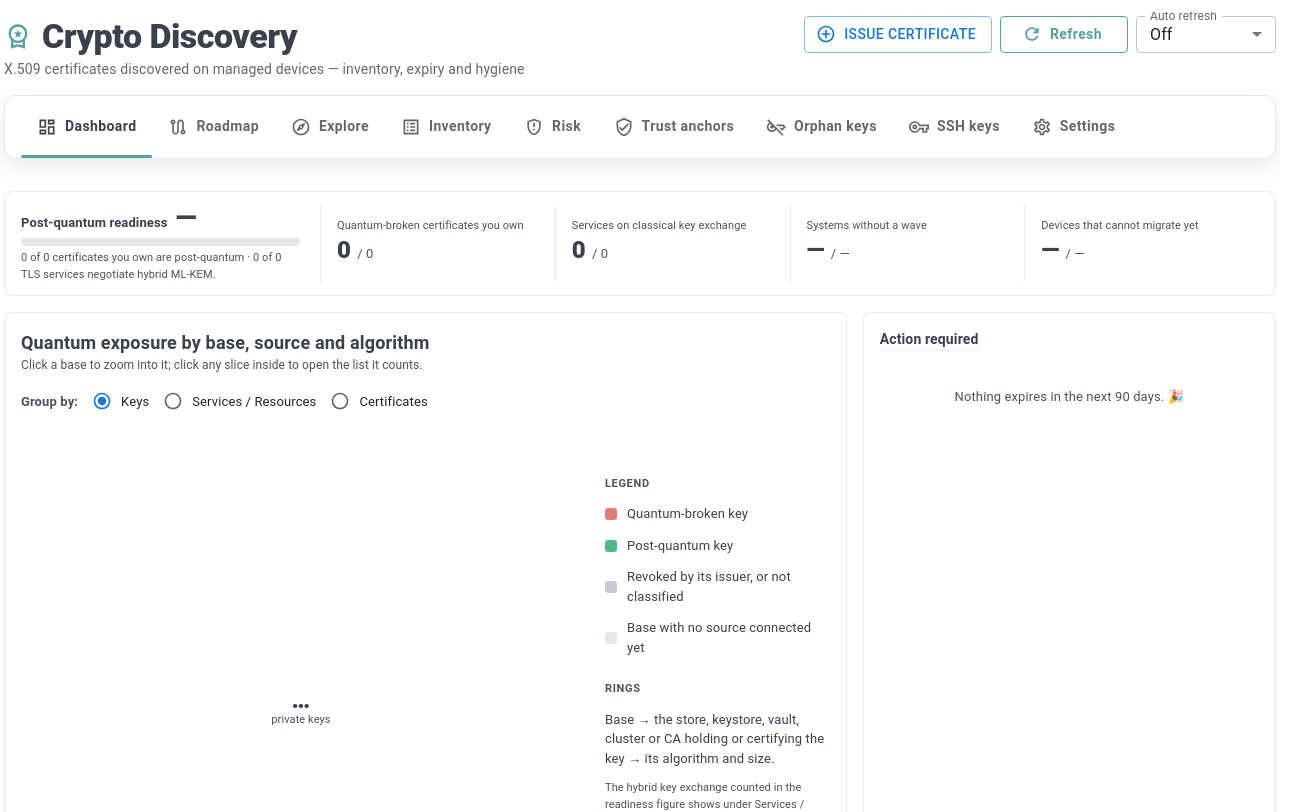
KPI clicables › ⭐ «you own» abre TODO lo que tiene clave —CA incluidas, como lo cuenta— y la lista lo pide
Expected: the text "With private key" is not shown
Click the button "Quantum-broken certificates you own" at point(438, 244), box [321, 204, 556, 283]
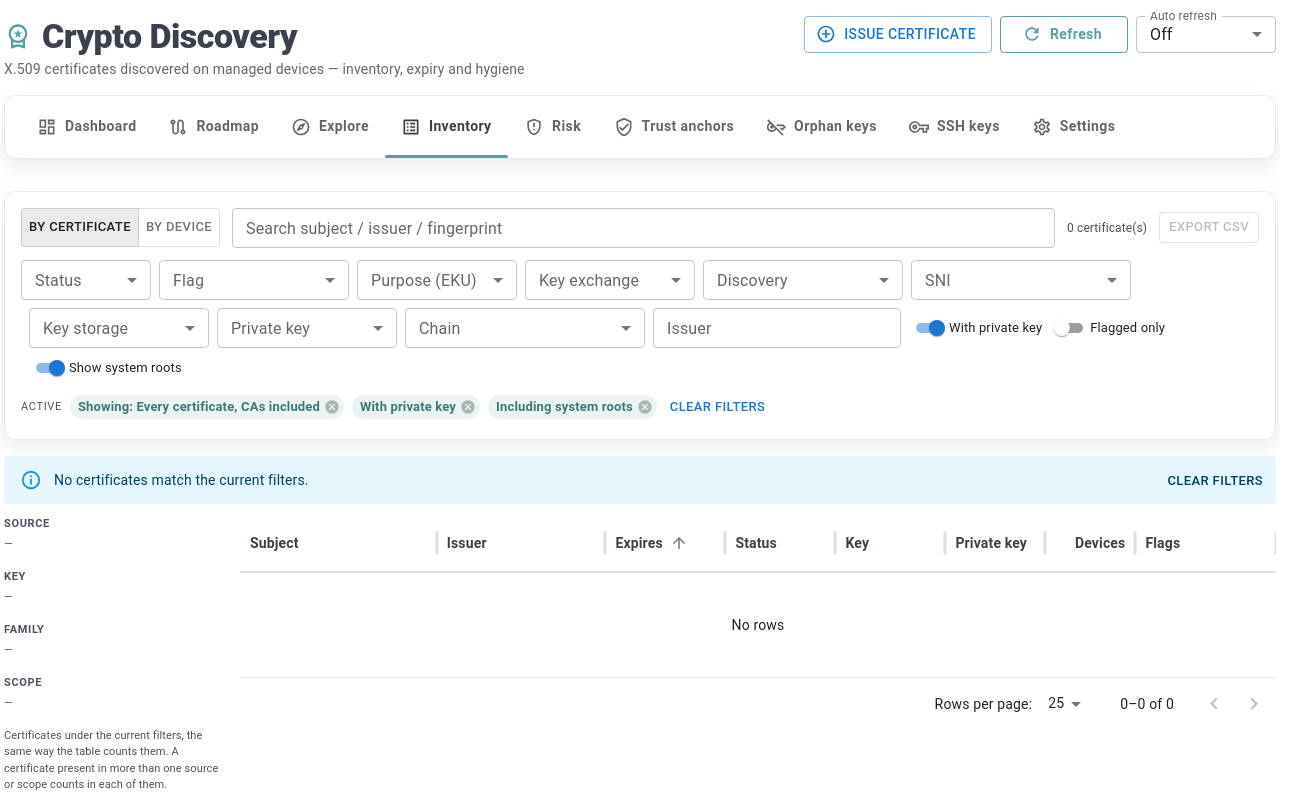
Now the switch labelled "With private key" is checked, box [909, 316, 1042, 340]
